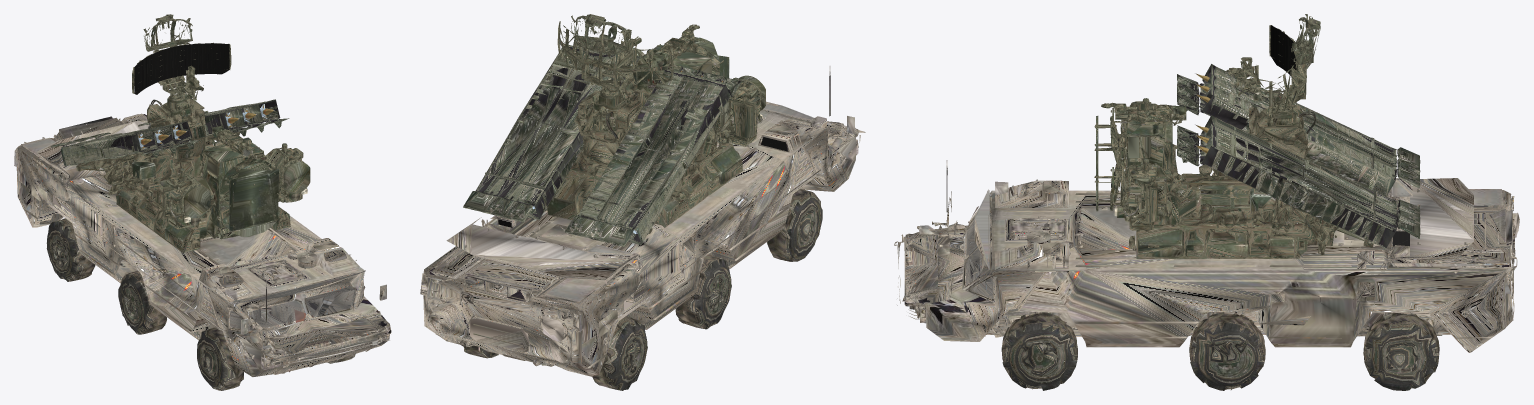
File: osa.glb
3 renders of one model, left to right at view 1: azimuth 30°, elevation 25°; view 2: azimuth 150°, elevation 25°; view 3: azimuth 270°, elevation 25°, orthographic. The views are drawn at different scales.
Parts seen in each view (by area): view 1: Object_36, Object_23, Object_9, Object_40, Object_34, Object_39, Object_3, Object_11, Object_13, Object_27, Object_33, Object_8 (+17 smaller); view 2: Object_36, Object_11, Object_10, Object_40, Object_9, Object_13, Object_12, Object_35, Object_39, Object_19, Object_8, Object_23 (+12 smaller); view 3: Object_36, Object_10, Object_7, Object_40, Object_13, Object_11, Object_8, Object_23, Object_39, Object_34, Object_14, Object_35 (+15 smaller).
Part boxes in pixels (box(x1,y1,x2,y2)): Object_36: box(14, 114, 391, 376); Object_23: box(200, 126, 278, 239); Object_9: box(46, 218, 166, 334); Object_40: box(37, 120, 387, 357); Object_34: box(39, 114, 363, 343); Object_39: box(53, 117, 296, 344); Object_3: box(134, 43, 229, 94); Object_11: box(60, 121, 230, 166); Object_13: box(116, 144, 290, 253); Object_27: box(230, 149, 363, 330); Object_33: box(199, 238, 358, 306); Object_8: box(197, 327, 243, 390); Object_36: box(420, 110, 858, 376); Object_11: box(542, 69, 729, 244); Object_10: box(475, 44, 624, 220); Object_40: box(446, 101, 857, 362); Object_9: box(592, 254, 731, 390); Object_13: box(547, 143, 742, 227); Object_12: box(463, 46, 741, 246); Object_35: box(430, 131, 858, 368); Object_39: box(459, 116, 855, 297); Object_19: box(557, 21, 673, 95); Object_8: box(461, 188, 822, 358); Object_23: box(637, 24, 729, 107); Object_36: box(902, 188, 1517, 352); Object_10: box(1199, 115, 1396, 249); Object_7: box(1001, 312, 1265, 390); Object_40: box(905, 178, 1473, 333); Object_13: box(1129, 172, 1336, 258); Object_11: box(1199, 64, 1397, 196); Object_8: box(1363, 312, 1439, 390); Object_23: box(1094, 103, 1186, 221); Object_39: box(945, 191, 1508, 250); Object_34: box(960, 220, 1509, 337); Object_14: box(1136, 132, 1331, 258); Object_35: box(917, 189, 1519, 345).
Bounding box in the file's own units: 3.05 × 5.49 × 9.34.
14 materials, 13 textured.
